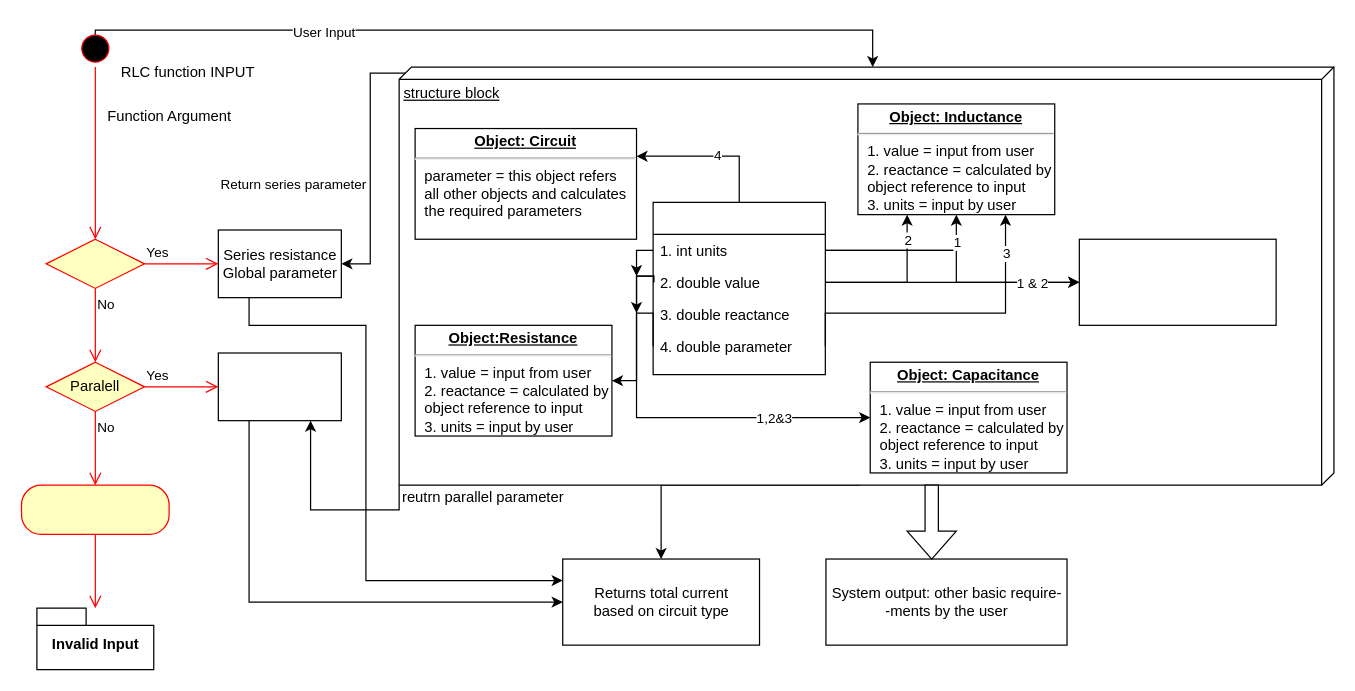
The diagram is 1355 pixels wide and 691 high, and some of its shapes have lost their labels. The box of each missing label's shape, as (x1, y1, x2, y2) in pixels:
Default case: (20, 484, 169, 534)
Object: Frequency 1. value = input from user 2. units = input by user: (1078, 238, 1276, 325)
Parallel resistance Global parameter: (217, 352, 341, 421)
Series: (45, 238, 145, 288)
struct RLC: (652, 201, 825, 375)
